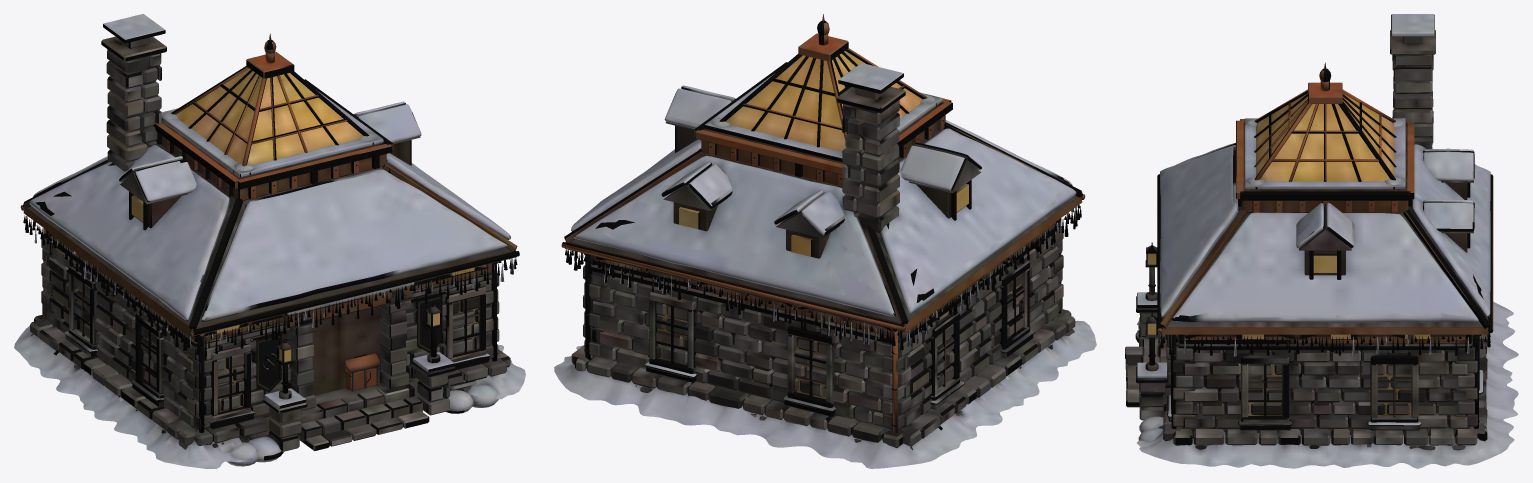
The model's file is atrium.glb.
3 renders of one model, left to right at view 1: azimuth 30°, elevation 25°; view 2: azimuth 150°, elevation 25°; view 3: azimuth 270°, elevation 25°, orthographic. The views are drawn at different scales.
Parts seen in each view (by area): view 1: model; view 2: model; view 3: model.
Boxes of the visible parts, x1,y1,x2,y2 form: model: (14, 14, 525, 468); model: (554, 14, 1096, 468); model: (1125, 14, 1518, 468).
Size of the model in its own units: 9.2 by 7.84 by 8.53.
2 materials, 2 textured.
